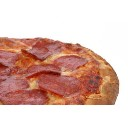pepperonipizza: (1, 36, 120, 106)
